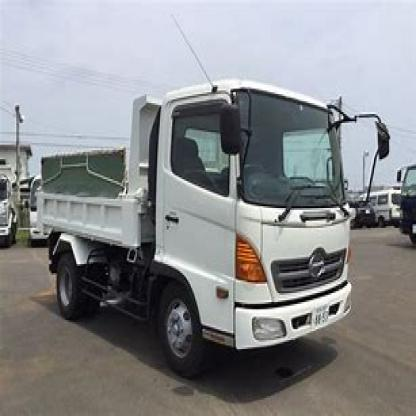dump_truck: (15, 42, 390, 370)
